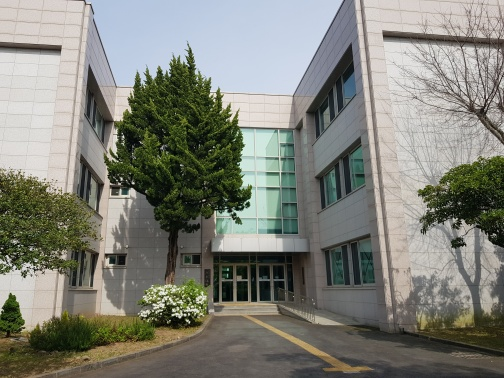College of Nursing: (3, 6, 476, 306)
